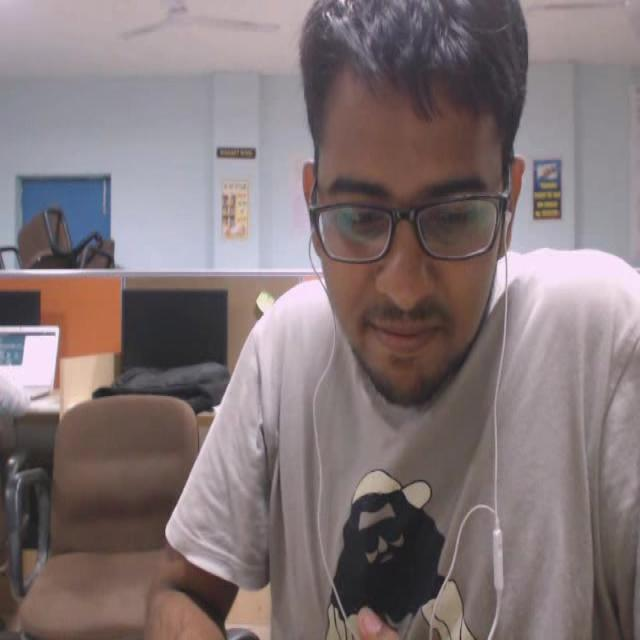Bored: (272, 0, 550, 442)
